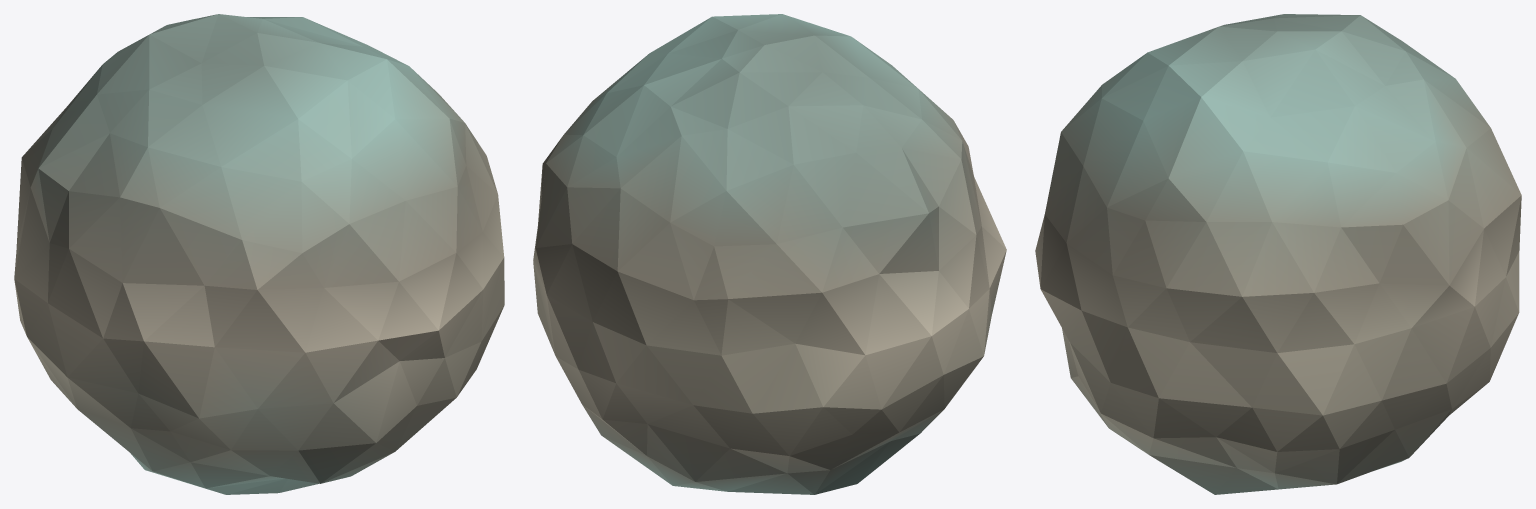
The model's file is Generic_Planets_Planet_Generic_GasGiant.fbx.
3 views of the same model, side by side, from view 1: azimuth 30°, elevation 25°; view 2: azimuth 150°, elevation 25°; view 3: azimuth 270°, elevation 25° (orthographic). The views are drawn at different scales.
Parts seen in each view (by area): view 1: Planet_Generic_GasGiant; view 2: Planet_Generic_GasGiant; view 3: Planet_Generic_GasGiant.
Boxes of the visible parts, <box> form: Planet_Generic_GasGiant: <box>14,14,504,494</box>; Planet_Generic_GasGiant: <box>533,14,1006,494</box>; Planet_Generic_GasGiant: <box>1035,14,1521,494</box>.
Size of the model in its own units: 20.12 by 20.11 by 20.09.
